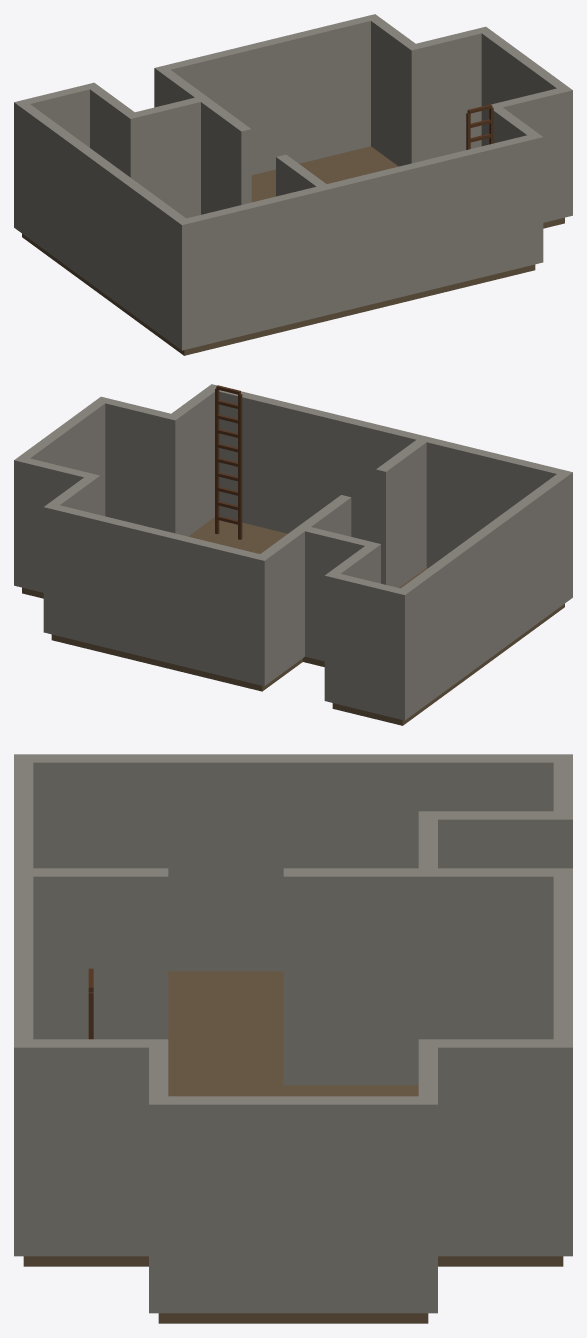
The model's file is sotano.glb.
3 renders of one model, top to bottom at view 1: azimuth 30°, elevation 25°; view 2: azimuth 150°, elevation 25°; view 3: azimuth 270°, elevation 25°, orthographic. The views are drawn at different scales.
Visible parts, largest first — view 1: sotano-muros, sotano-suelos, sotano-escaleras; view 2: sotano-muros, sotano-suelos, sotano-escaleras; view 3: sotano-muros, sotano-suelos.
Boxes of the visible parts, left/top/right/bottom form: sotano-muros: left=14, top=14, right=572, bottom=350; sotano-suelos: left=22, top=146, right=564, bottom=355; sotano-escaleras: left=466, top=104, right=493, bottom=149; sotano-muros: left=14, top=384, right=572, bottom=720; sotano-suelos: left=22, top=517, right=564, bottom=725; sotano-escaleras: left=215, top=385, right=242, bottom=539; sotano-muros: left=14, top=754, right=572, bottom=1313; sotano-suelos: left=23, top=971, right=563, bottom=1323.
Bounding box in the file's own units: 9.36 × 3.24 × 6.32.
